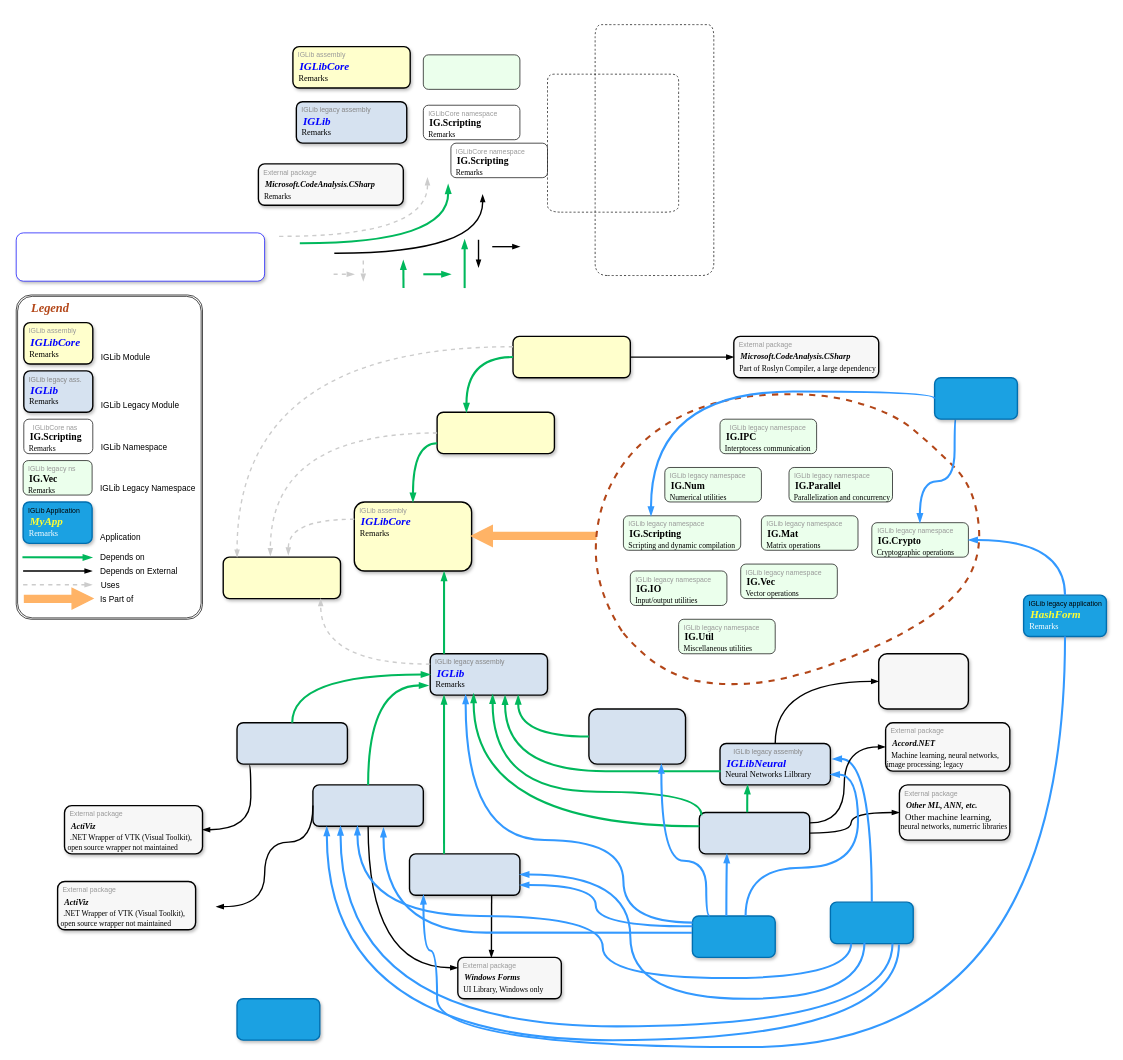
This 1123x1060 diagram has some shape labels left out. The centre of each missing label's shape, as x and y in pixels:
External package AForge.NET Machine learning, image processing, legacy: pixel 924 682
IGLib Application AnnApp Exploring: pixel 734 937
IGLib Application AnnApp Remarks: pixel 278 1020
IGLib assembly IGLibScripting Remarks: pixel 496 433
IGLib assembly IGLibScriptingCs Remarks: pixel 572 358
IGLib assembly IGLibScripts Remarks: pixel 282 578
IGLib legacy application HashShell Cryptographic shell: pixel 976 399
IGLib legacy application NeurApp Remarks: pixel 872 923
IGLib legacy assembly IGForms UI Library (Windows only): pixel 465 875
IGLib legacy assembly IGLibExt Extensions that do not fit to IGLib: pixel 637 737
IGLib legacy assembly IGLibNeuralExt Remarks: pixel 755 834
IGLib legacy assembly IGLibPlot2D 2D Charting library: pixel 368 806
IGLib legacy assembly IGLibPlot3D 3D plotting library: pixel 292 744
IGLib legacy namespace IG.Vec Remarks: pixel 471 71
Investigative Generic Library (IGLib) Dependencies (Simplified): pixel 141 257
